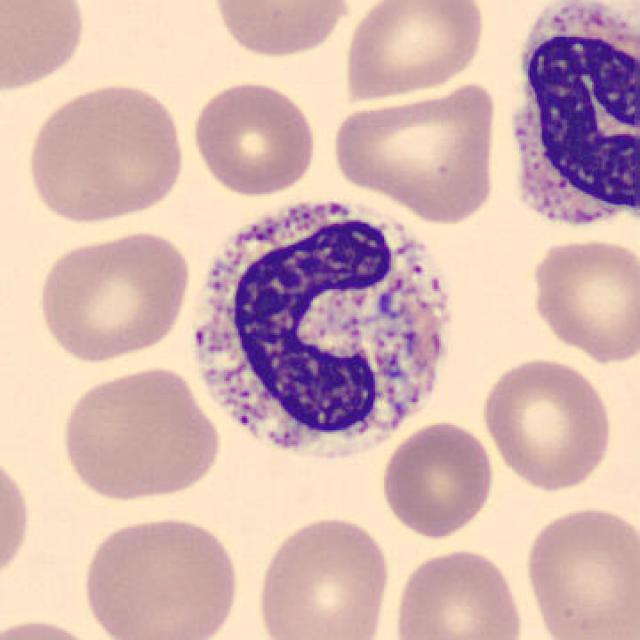Neutrophil: (180, 183, 470, 476), (492, 0, 640, 252)
RBC: (327, 77, 503, 224), (22, 78, 188, 228), (55, 363, 224, 504), (32, 227, 194, 365), (77, 511, 246, 640), (476, 354, 617, 494), (252, 511, 394, 640), (520, 500, 638, 640), (188, 78, 320, 199), (339, 0, 489, 104), (524, 234, 638, 365), (377, 418, 498, 541), (389, 545, 528, 640), (206, 0, 356, 62), (0, 0, 91, 97), (0, 444, 34, 591), (0, 613, 117, 640)
